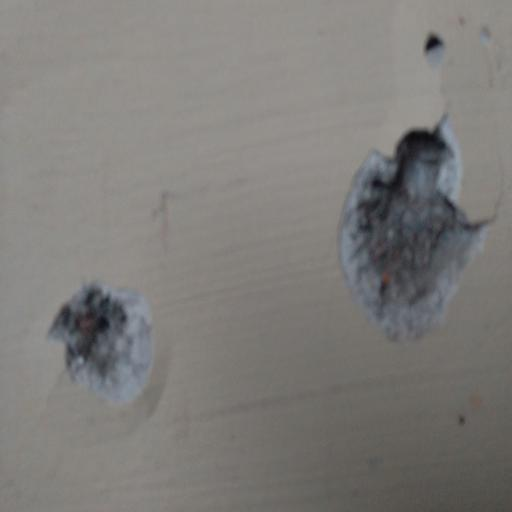spalling: (329, 89, 491, 364), (23, 274, 176, 425), (413, 19, 458, 71)
